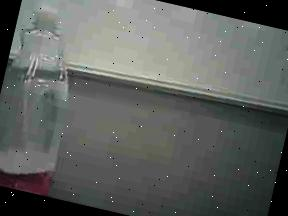hazard: (0, 0, 111, 200)
